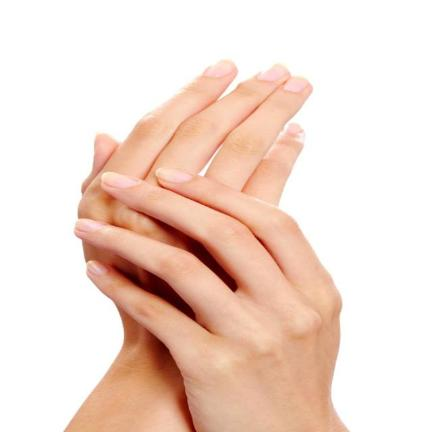Nail: (156, 167, 193, 183), (257, 63, 289, 81), (102, 172, 137, 188), (204, 59, 235, 77), (283, 76, 309, 92), (76, 218, 103, 232), (86, 260, 108, 275), (285, 123, 302, 133)
